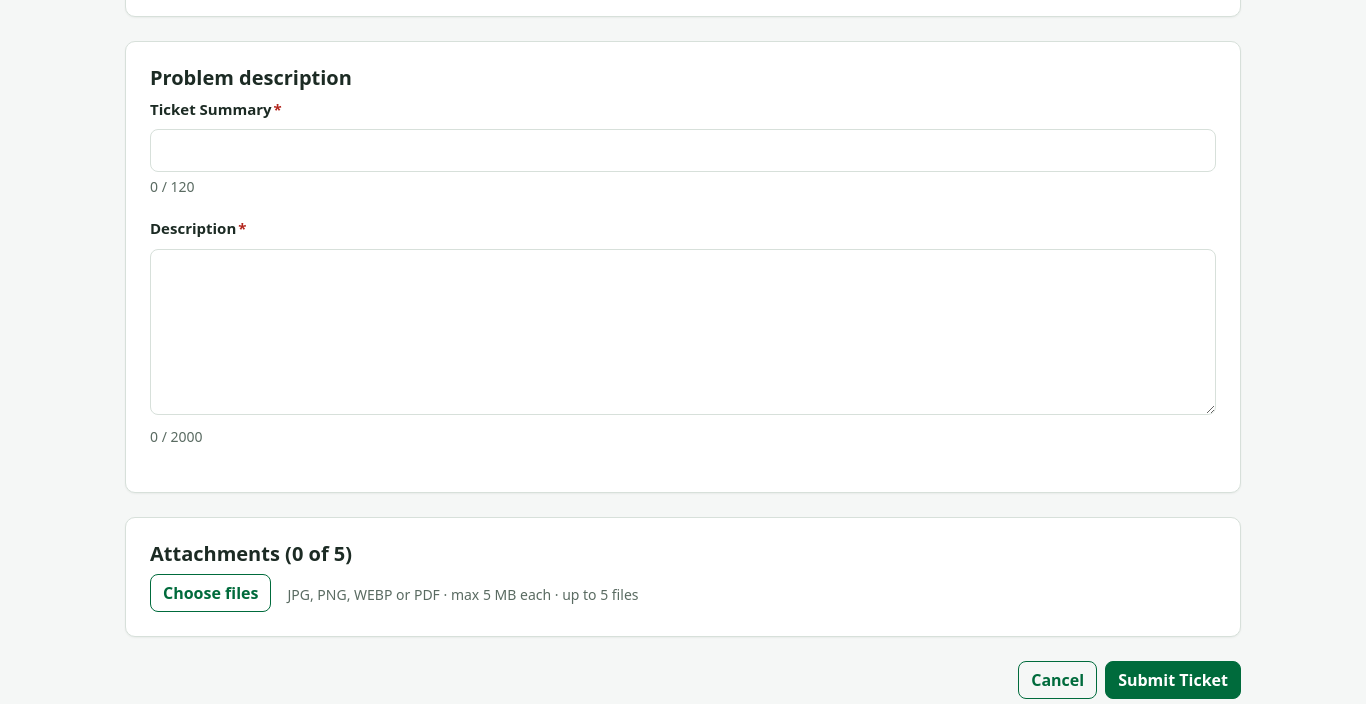
Test: Create Ticket field styling (STYLE-02, 03, 04) › STYLE-04 puts each message beside its own field and links it with aria-describedby
(page scrolled)
Click the button "Submit Ticket" at (1173, 680), box [1105,661,1241,699]
(page scrolled)
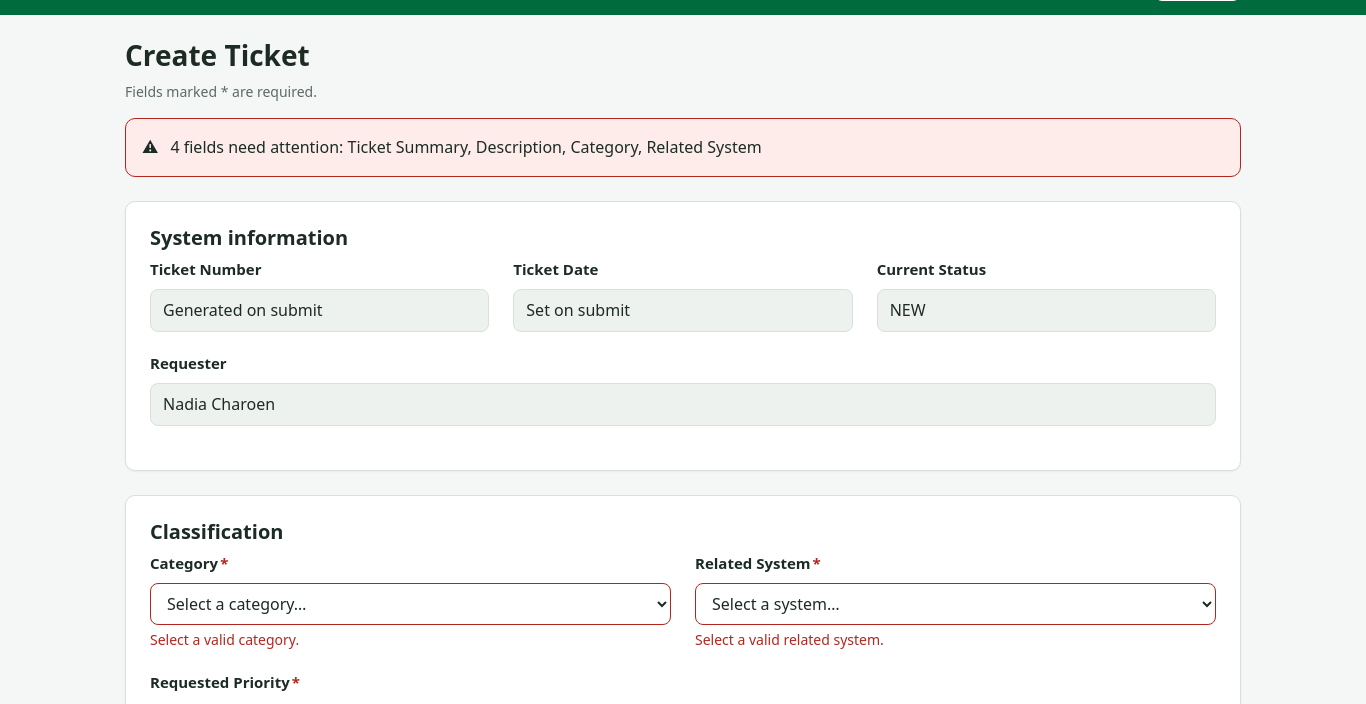
Now the text "Select a valid category." is shown, box [150,630,299,649]
Now the message shows "fields need attention", box [125,118,1241,177]
